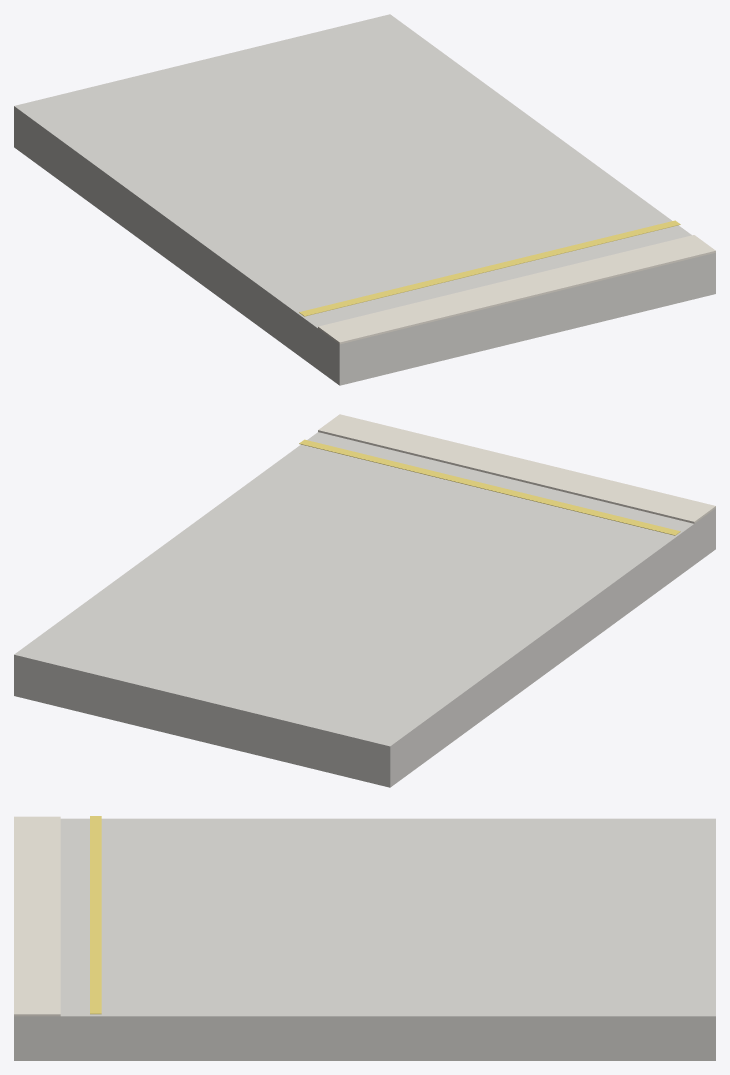
The model's file is platform.glb.
3 renders of one model, top to bottom at view 1: azimuth 30°, elevation 25°; view 2: azimuth 150°, elevation 25°; view 3: azimuth 270°, elevation 25°, orthographic. The views are drawn at different scales.
Visible parts, largest first — view 1: platform_platform, platform_lime, platform_yellow; view 2: platform_platform, platform_lime, platform_yellow; view 3: platform_platform, platform_lime, platform_yellow.
Boxes of the visible parts, <box> form: platform_platform: <box>14,14,715,385</box>; platform_lime: <box>318,235,715,344</box>; platform_yellow: <box>299,220,680,316</box>; platform_platform: <box>14,432,715,787</box>; platform_lime: <box>318,414,715,523</box>; platform_yellow: <box>299,439,680,535</box>; platform_platform: <box>14,818,715,1060</box>; platform_lime: <box>14,816,60,1016</box>; platform_yellow: <box>90,816,101,1014</box>.
Size of the model in its own units: 4 by 0.445 by 6.
